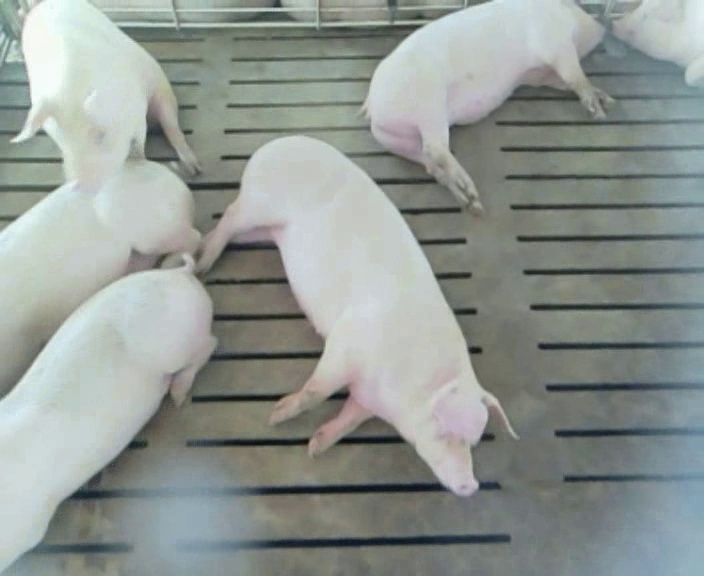pig: (196, 136, 516, 494), (0, 255, 215, 571), (364, 2, 610, 212), (0, 160, 200, 396), (12, 3, 200, 191), (612, 2, 703, 85)
